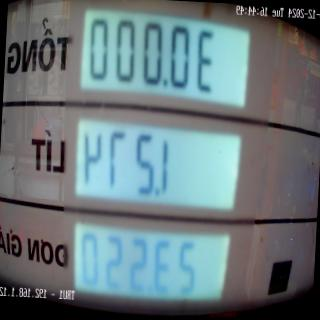screen: (64, 2, 256, 316)
